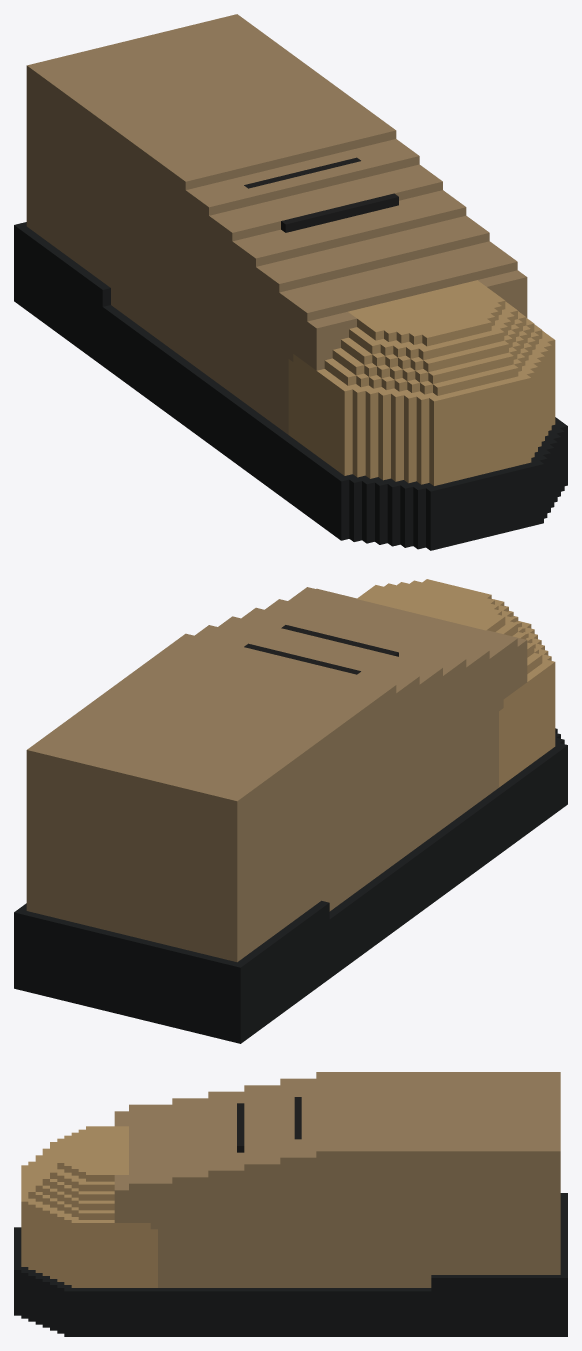
File: boots_combat_worn_foot.glb
3 renders of one model, top to bottom at view 1: azimuth 30°, elevation 25°; view 2: azimuth 150°, elevation 25°; view 3: azimuth 270°, elevation 25°, orthographic. The views are drawn at different scales.
Parts seen in each view (by area): view 1: boots_combat_worn_foot:compound; view 2: boots_combat_worn_foot:compound; view 3: boots_combat_worn_foot:compound.
Part boxes in pixels (left/top/right/bottom): boots_combat_worn_foot:compound: left=14, top=14, right=567, bottom=550; boots_combat_worn_foot:compound: left=14, top=579, right=567, bottom=1043; boots_combat_worn_foot:compound: left=14, top=1072, right=567, bottom=1336.
Bounding box in the file's own units: 0.112 × 0.112 × 0.308.
